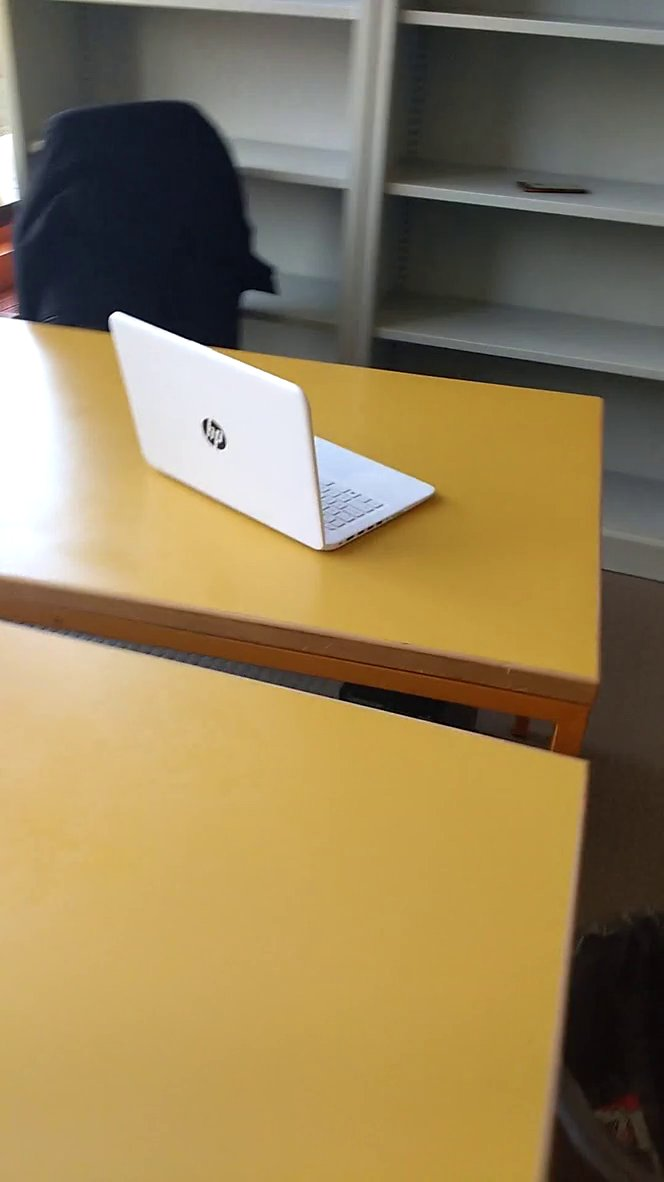chair: (15, 98, 301, 361)
laptop: (102, 307, 441, 563)
